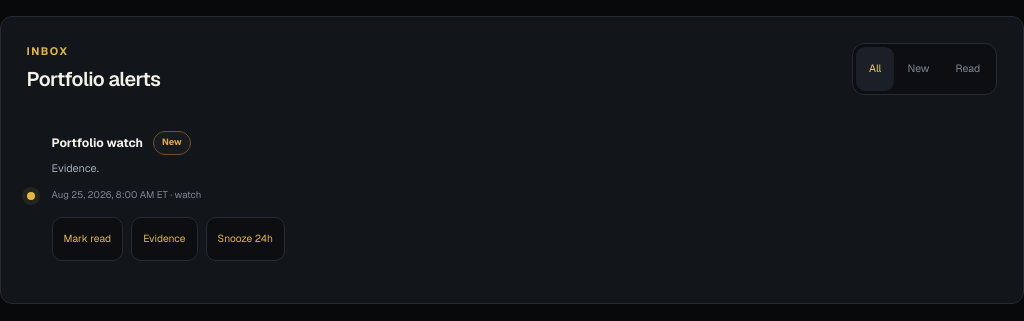
it: AlertsCenter › persists connected actions with a CSRF-protected request
The image size is (1024, 321).
Click the button "Mark read" at (87, 239), box [52, 217, 123, 261]
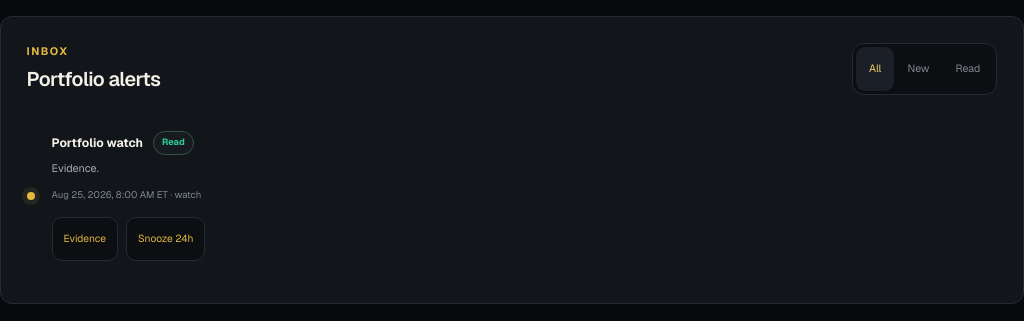
Result: the text "read" is shown at [153, 131, 194, 155]
